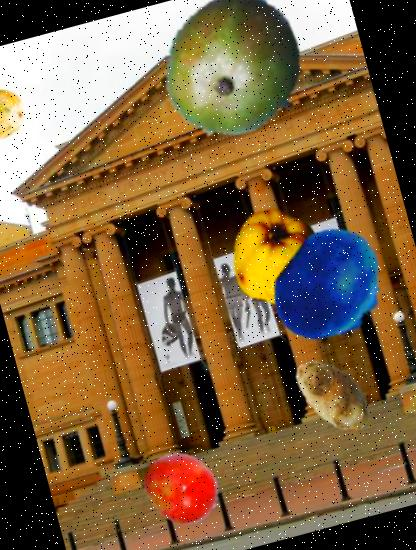Cantaloupe: (0, 80, 32, 147)
Cherry: (135, 442, 229, 536)
Ginger: (280, 340, 388, 450)
Huckleberry: (258, 214, 402, 360)
Mango: (146, 0, 325, 155)
Quince: (219, 198, 338, 317)
